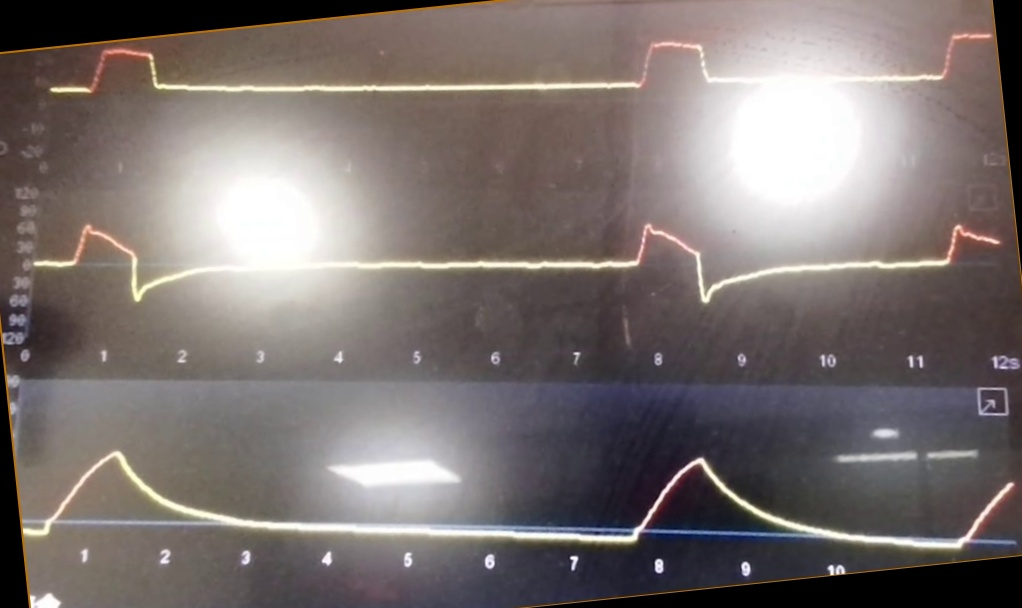Normal Flow: (32, 170, 1005, 317)
Normal Volume: (26, 439, 1012, 551)
